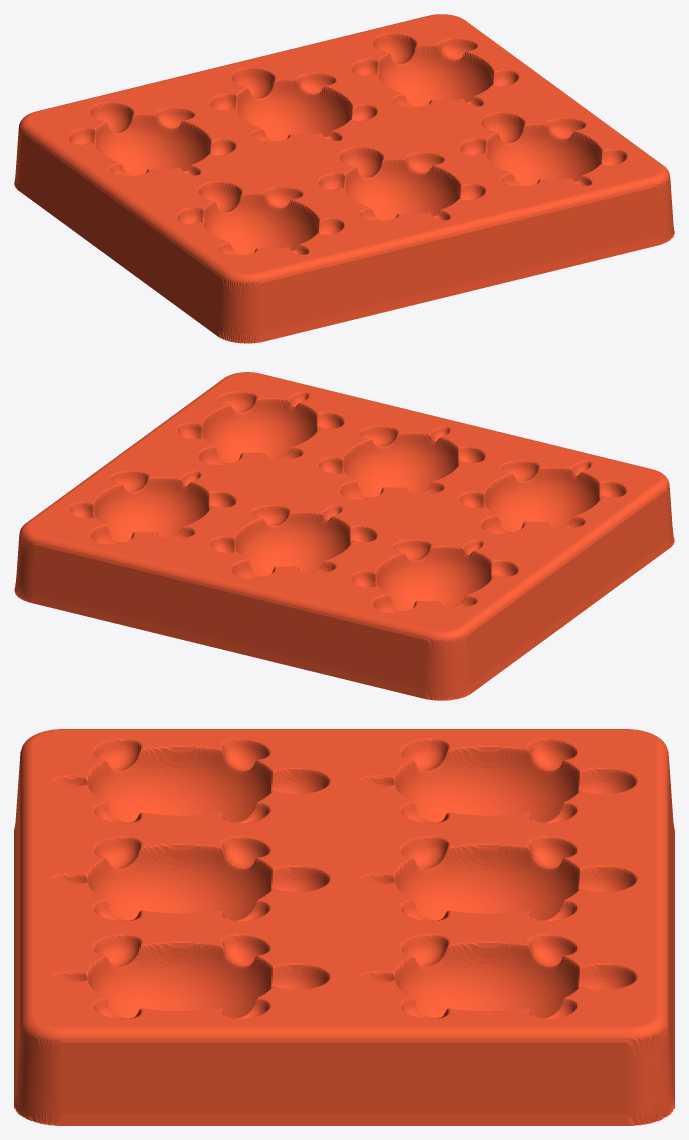
Rendered from mold.glb.
3 views of the same model, one above another, from view 1: azimuth 30°, elevation 25°; view 2: azimuth 150°, elevation 25°; view 3: azimuth 270°, elevation 25° (orthographic). The views are drawn at different scales.
Visible parts, largest first — view 1: geometry_0; view 2: geometry_0; view 3: geometry_0.
Part boxes in pixels (left/top/right/bottom): geometry_0: left=14, top=14, right=674, bottom=343; geometry_0: left=14, top=372, right=674, bottom=700; geometry_0: left=14, top=729, right=674, bottom=1125.
Bounding box in the file's own units: 0.1371 × 0.0185 × 0.1222.
